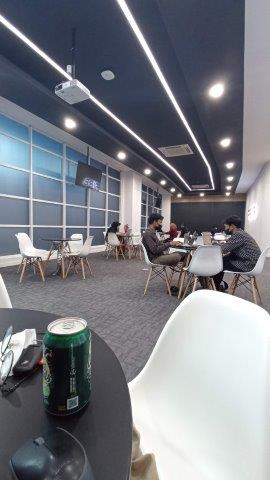kaleng: (43, 317, 91, 416)
